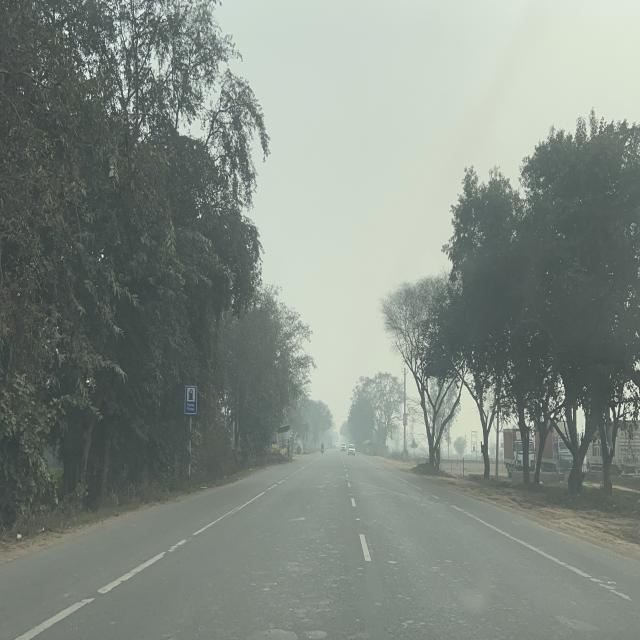INFORMATION: (184, 385, 197, 415)
